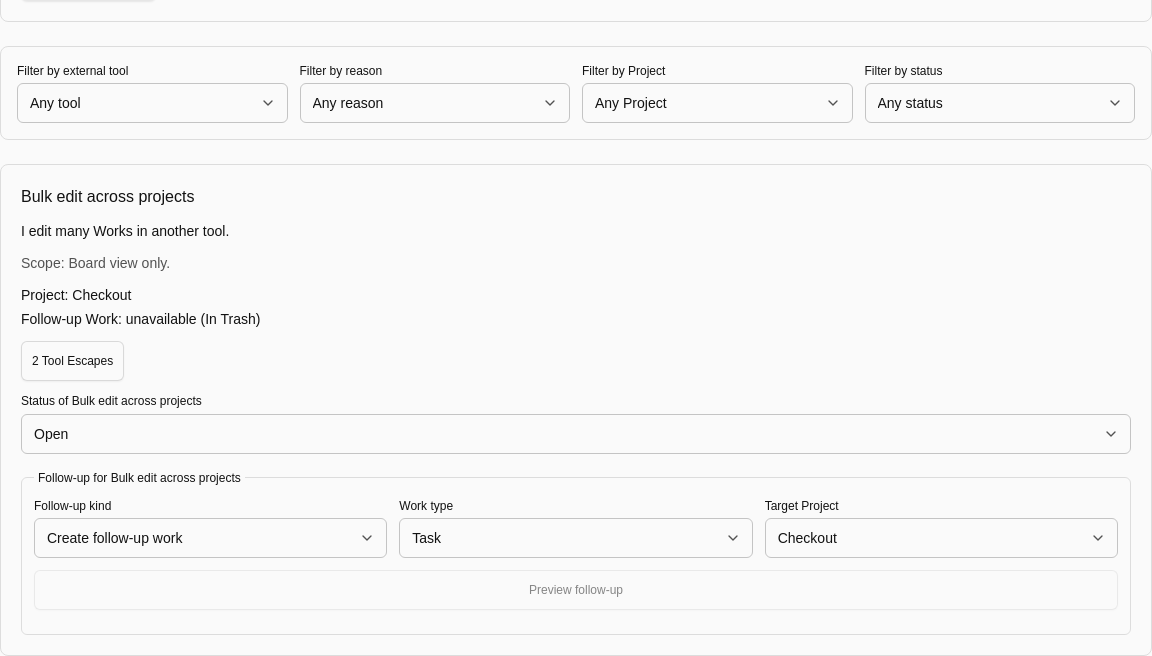
Test: lets the founder discard a preview without writing
The width and height of the screenshot is (1152, 656).
(page scrolled)
Select "Checkout" in the dropdown labelled "Target Project": (941, 538) left=765, top=518, right=1118, bottom=558
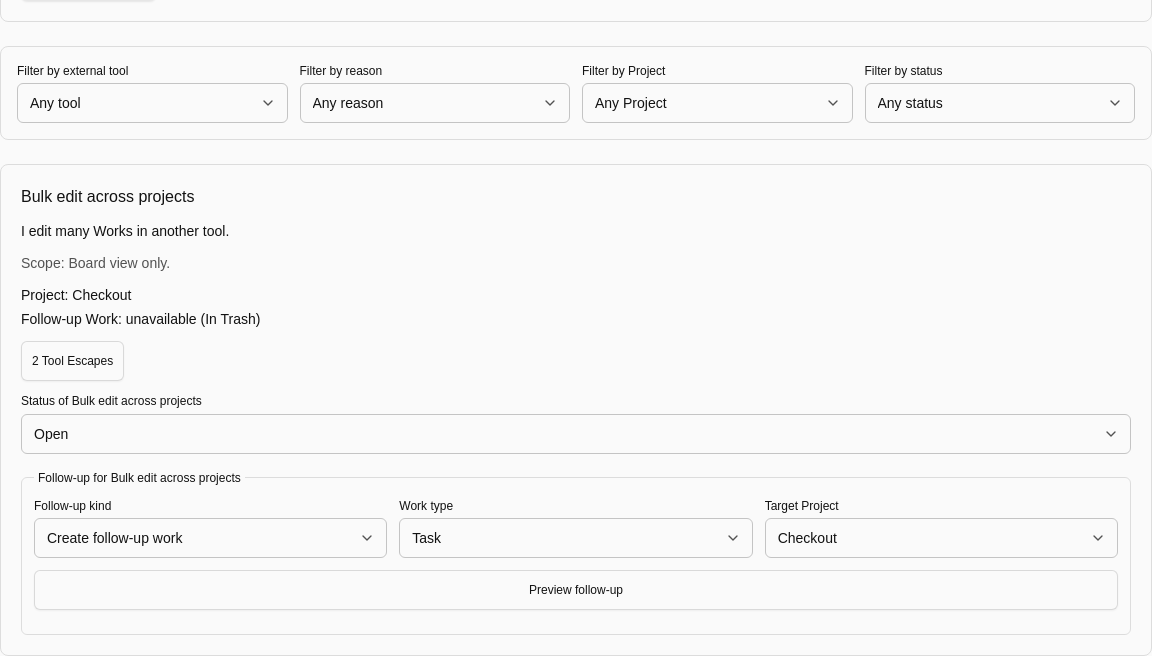
Click the button "Preview follow-up": click(576, 590) left=34, top=570, right=1118, bottom=610
(page scrolled)
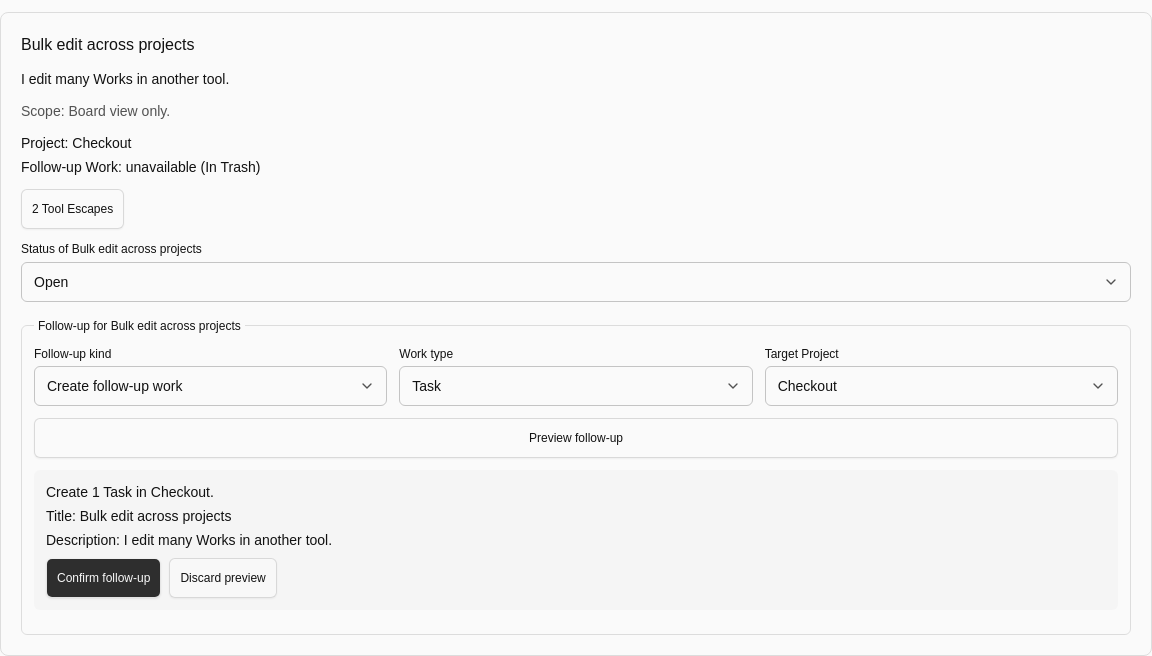
Click the button "Discard preview": click(223, 578) left=169, top=558, right=277, bottom=598
(page scrolled)
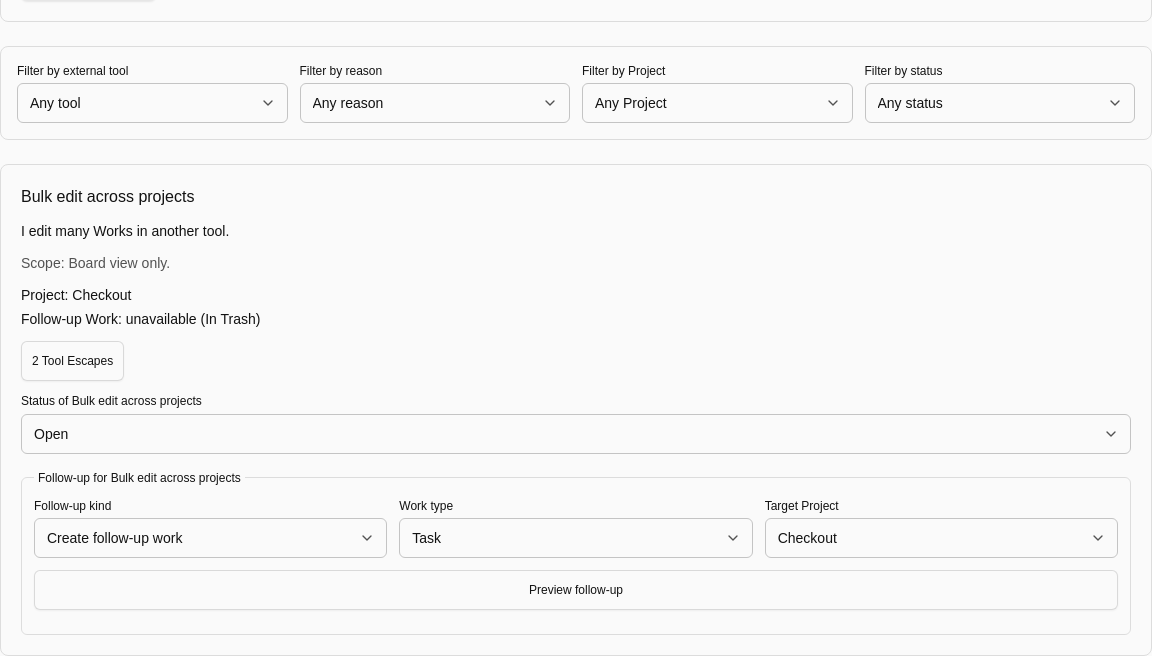
Expected: the text "Create 1 Task" is gone
